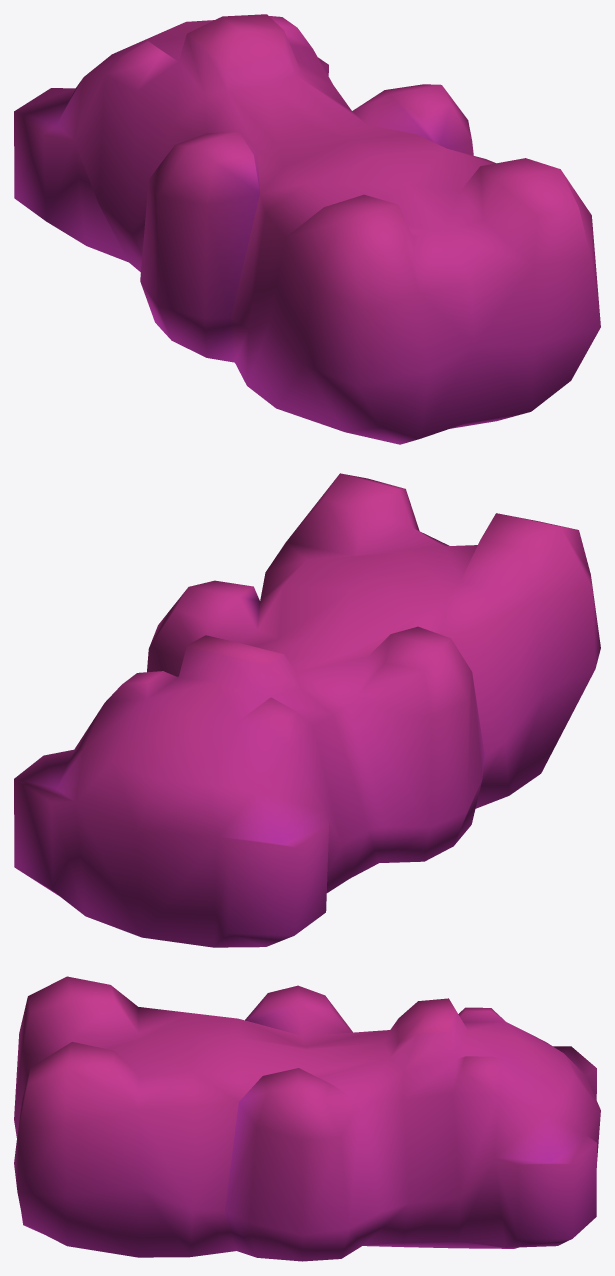
The picture shows the model from 3 angles, top to bottom: view 1: azimuth 30°, elevation 25°; view 2: azimuth 150°, elevation 25°; view 3: azimuth 270°, elevation 25°; orthographic projection. The views are drawn at different scales.
Parts seen in each view (by area): view 1: alt447; view 2: alt447; view 3: alt447.
Boxes of the visible parts, left/top/right/bottom form: alt447: left=14, top=14, right=600, bottom=444; alt447: left=14, top=473, right=600, bottom=947; alt447: left=14, top=976, right=600, bottom=1261.
Bounding box in the file's own units: 0.2606 × 0.2023 × 0.5.
